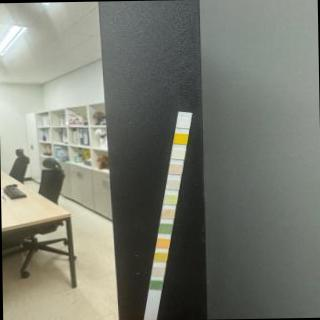mark: (168, 162, 182, 175), (176, 116, 190, 128), (174, 132, 187, 144), (158, 223, 172, 234), (166, 179, 179, 190), (162, 194, 176, 204), (172, 148, 184, 159), (157, 238, 170, 248), (149, 280, 161, 290), (152, 266, 164, 276), (155, 252, 167, 262), (162, 208, 174, 218)
